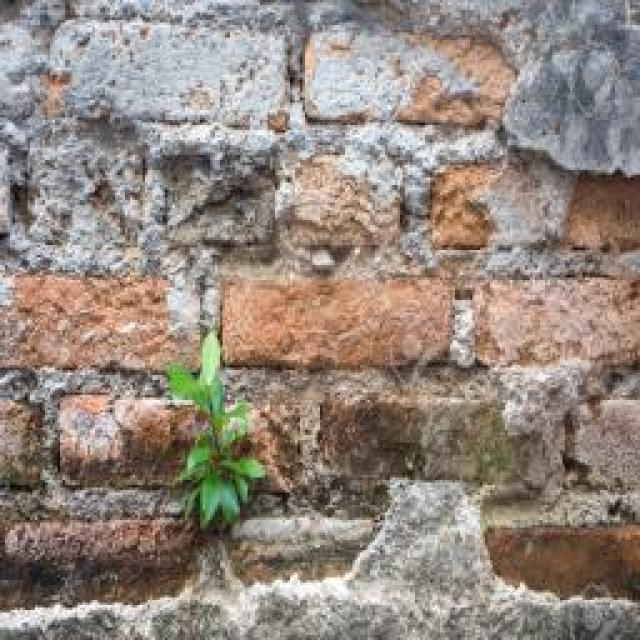Crack: (1, 0, 638, 633)
